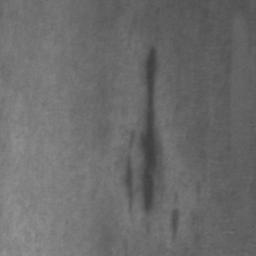Inclusion: (141, 49, 157, 211)
